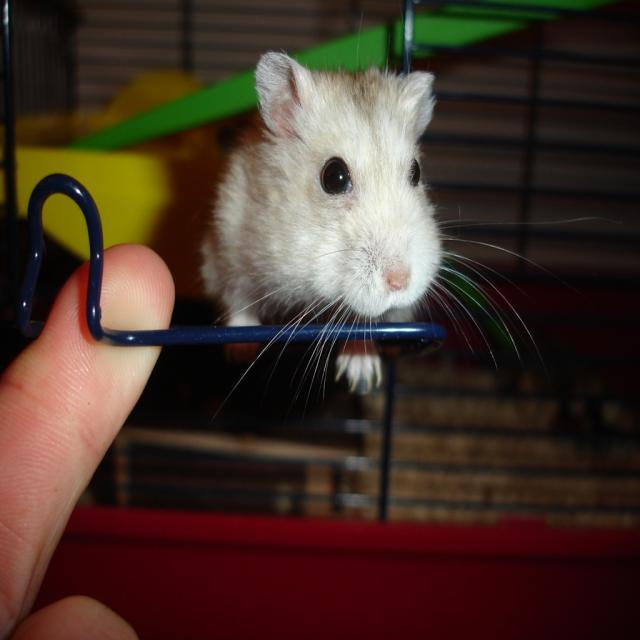rat: (199, 45, 448, 395)
